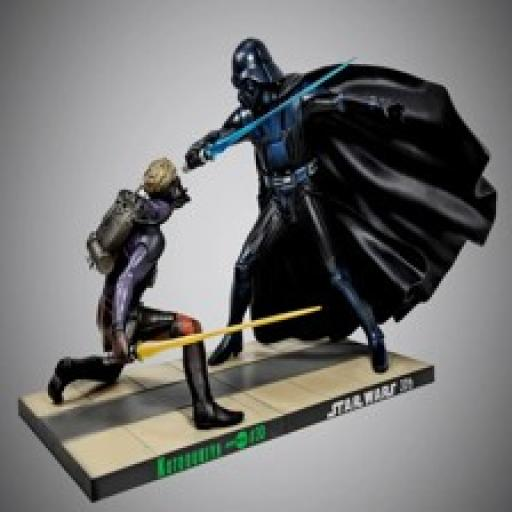human: (172, 36, 395, 372), (46, 156, 245, 432)
lightsaber: (187, 58, 357, 171), (101, 304, 327, 374)
